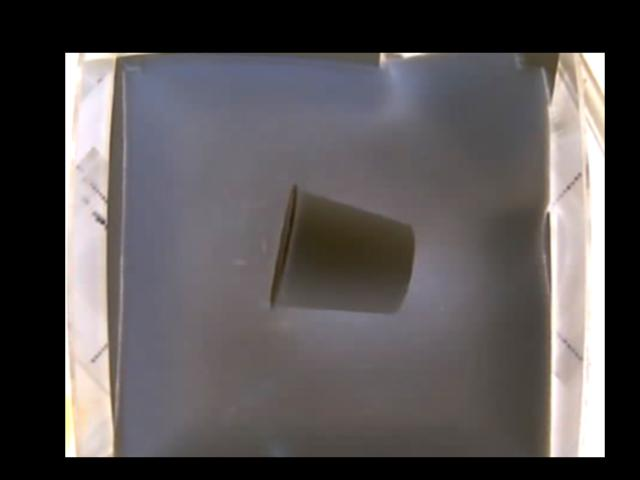Cup: (268, 180, 415, 316)
